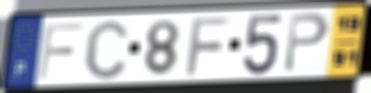5: (240, 12, 284, 76)
8: (143, 19, 184, 76)
C: (82, 17, 131, 82)
F: (184, 15, 234, 78), (37, 21, 85, 82)
P: (281, 10, 331, 75)
